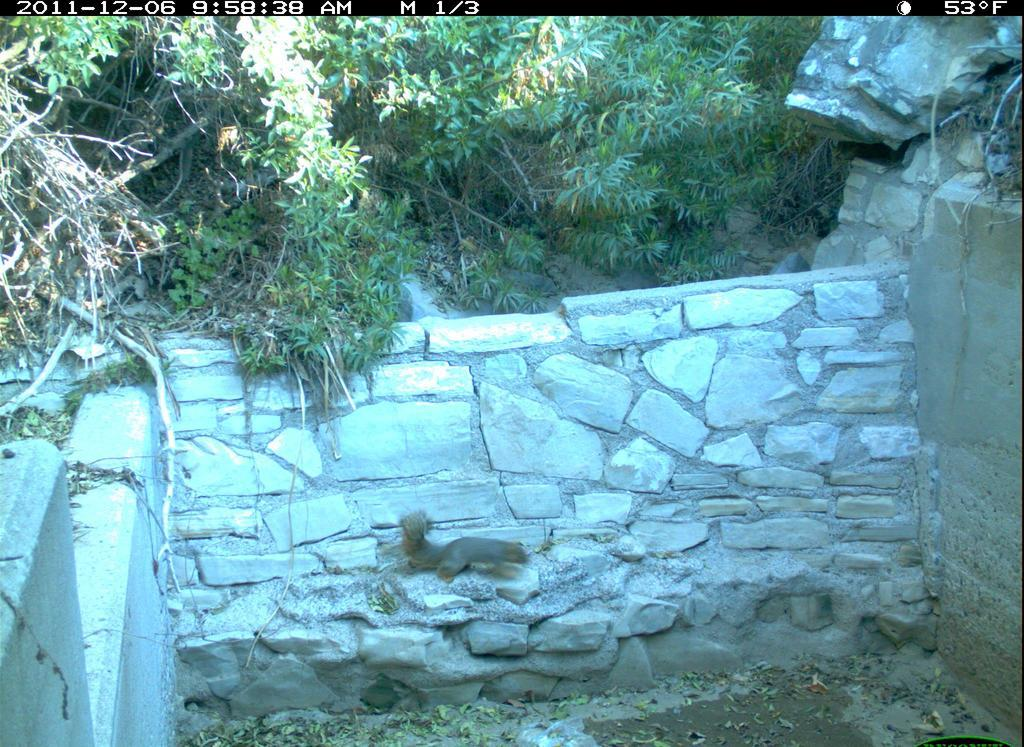squirrel: (397, 510, 538, 591)
